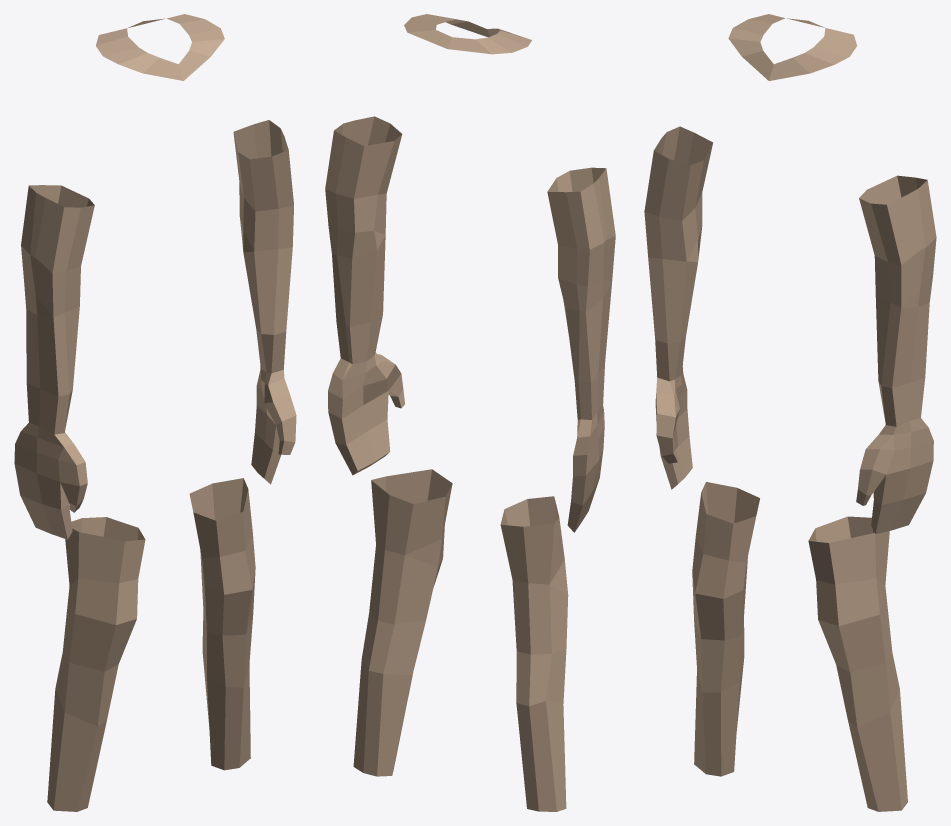
The model's file is body_neutral.obj.
3 views of the same model, side by side, from view 1: azimuth 30°, elevation 25°; view 2: azimuth 150°, elevation 25°; view 3: azimuth 330°, elevation 25° (orthographic).
Visible parts, largest first — view 1: BodyNeutral; view 2: BodyNeutral; view 3: BodyNeutral.
Boxes of the visible parts, box(x1,y1,x2,y2) form: BodyNeutral: box(14, 14, 296, 811); BodyNeutral: box(325, 14, 615, 811); BodyNeutral: box(644, 14, 936, 811).
Size of the model in its own units: 1.4 by 3.88 by 0.4938.
